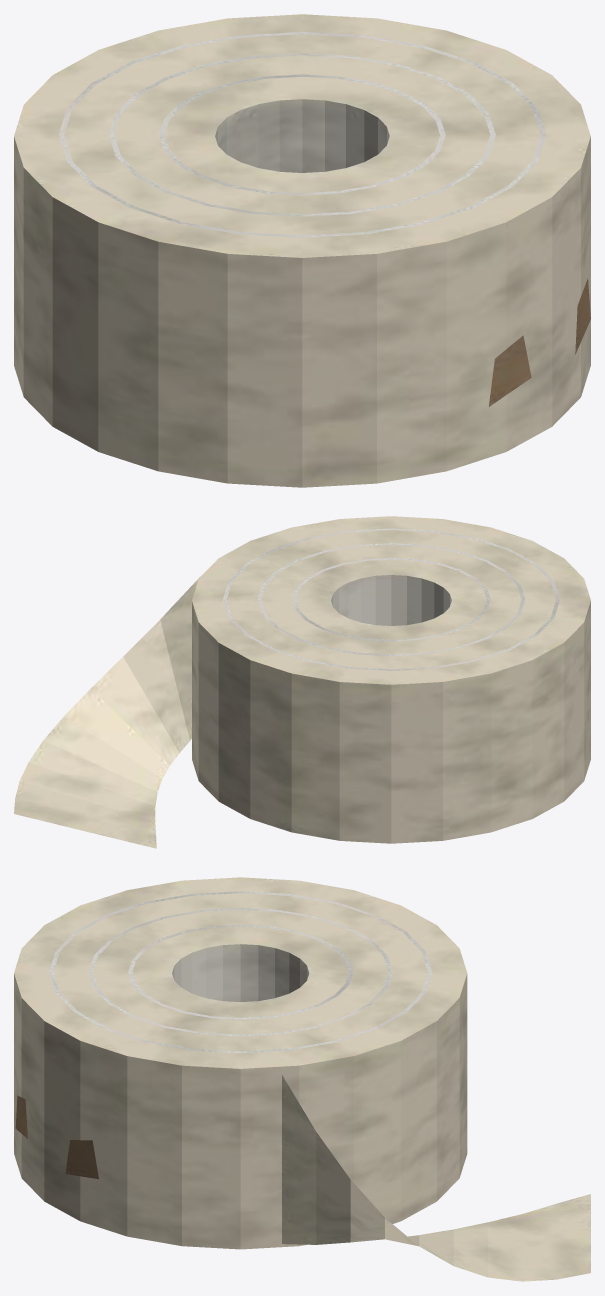
The model's file is HE10_bandage_roll_v1.glb.
3 renders of one model, top to bottom at view 1: azimuth 30°, elevation 25°; view 2: azimuth 150°, elevation 25°; view 3: azimuth 270°, elevation 25°, orthographic. The views are drawn at different scales.
Parts seen in each view (by area): view 1: Hollow_bandage_roll; view 2: Hollow_bandage_roll; view 3: Hollow_bandage_roll.
Boxes of the visible parts, x1,y1,x2,y2 form: Hollow_bandage_roll: [14, 14, 590, 487]; Hollow_bandage_roll: [14, 516, 590, 848]; Hollow_bandage_roll: [14, 877, 590, 1281].
Size of the model in its own units: 0.0972 by 0.0347 by 0.1.
4 materials, 4 textured.
